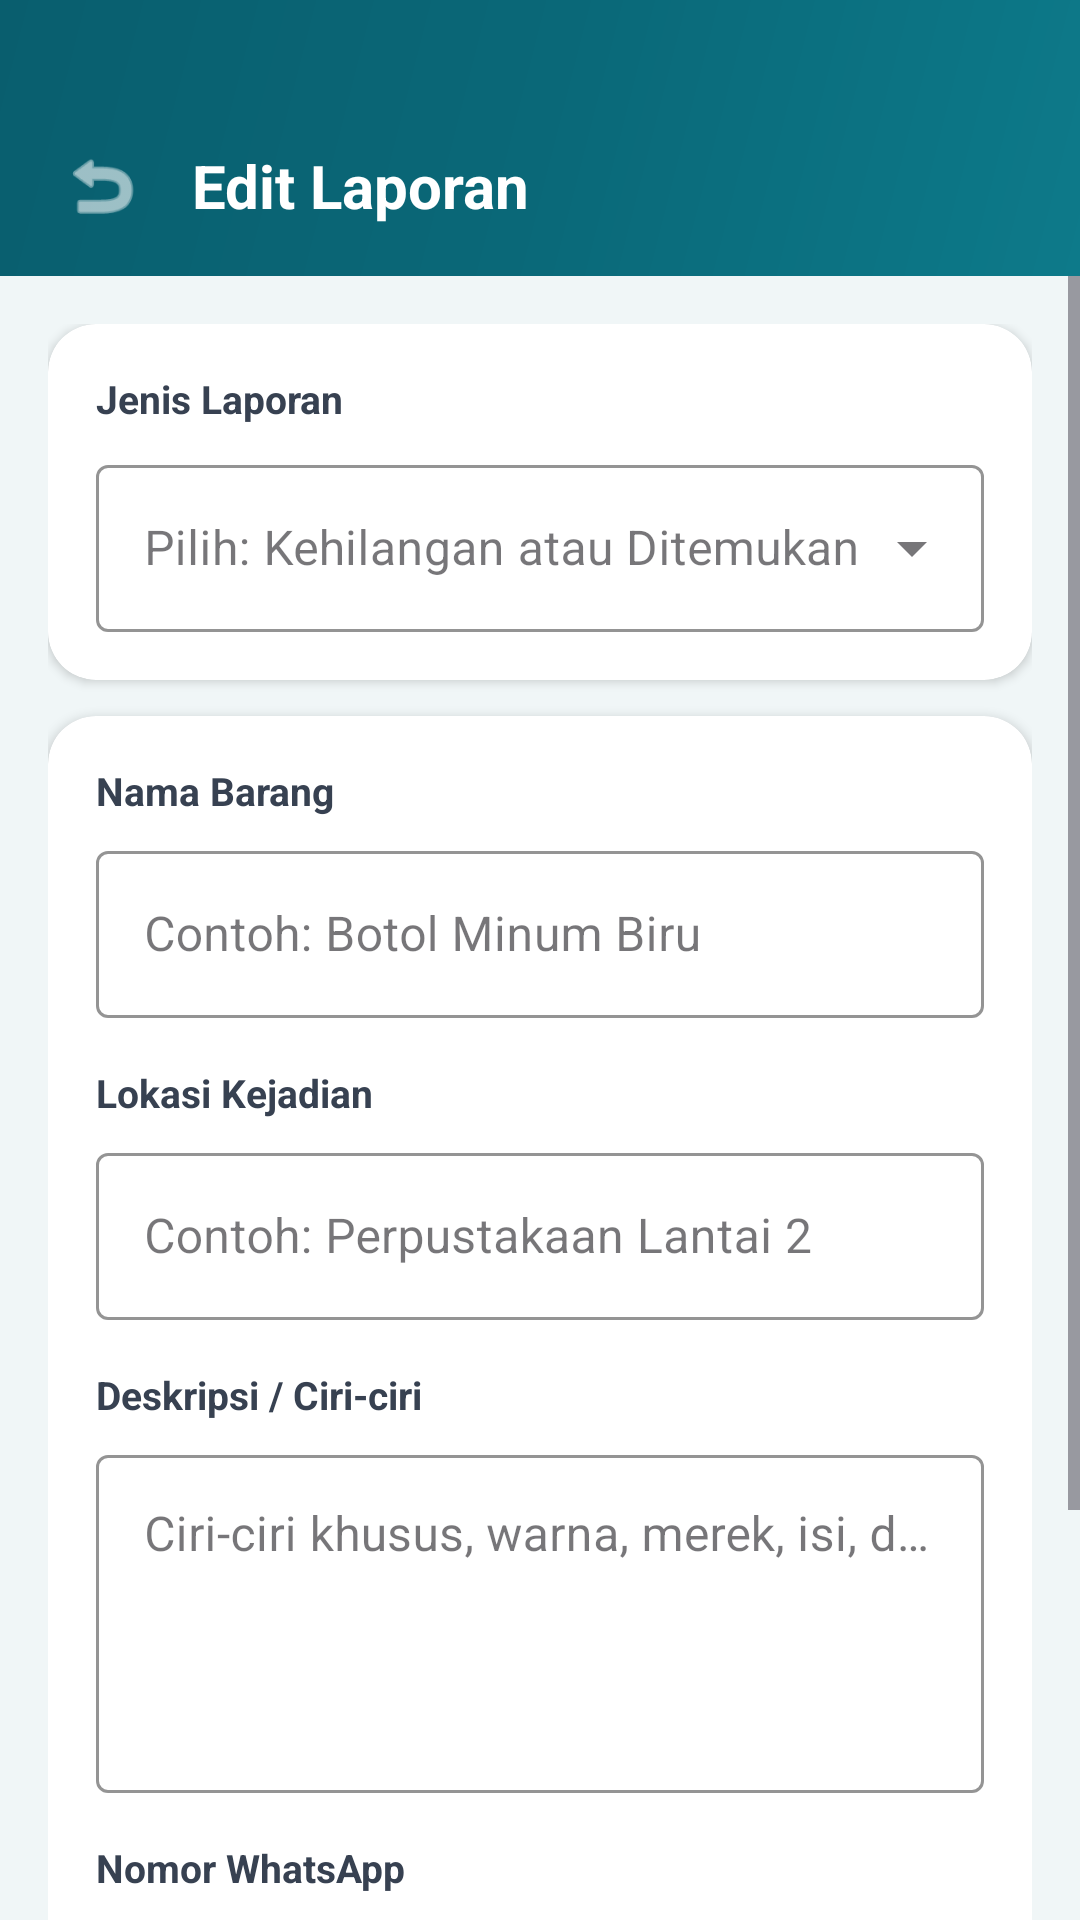

Icon bounding boxes for this 1080w x 1920h phone screenshot, format (x1, y1, x2, y2):
revert: (73, 159, 134, 214)
